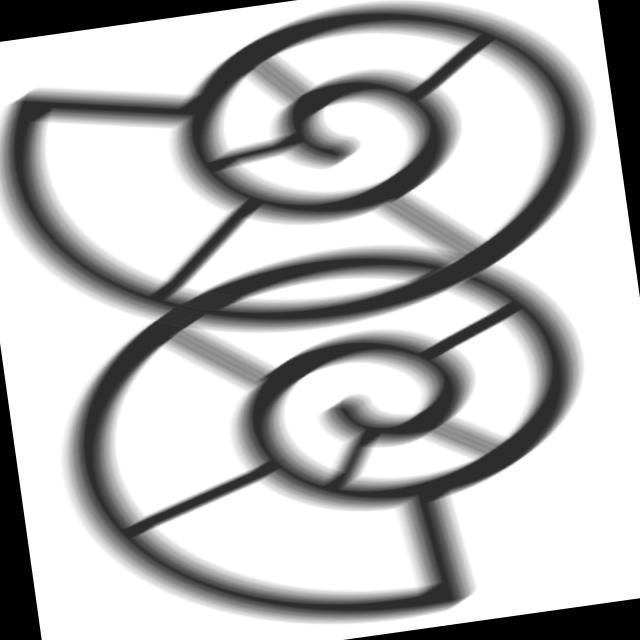fossil: (28, 209, 627, 640), (1, 1, 625, 380)
